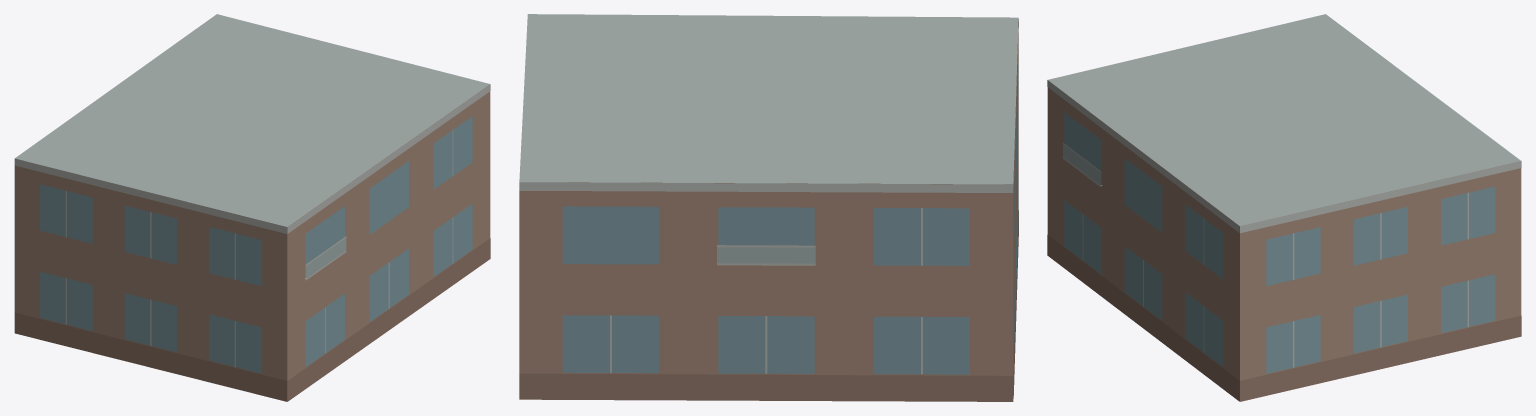
The model's file is survey-upis-33007080.glb.
3 renders of one model, left to right at view 1: azimuth 30°, elevation 25°; view 2: azimuth 150°, elevation 25°; view 3: azimuth 270°, elevation 25°, orthographic. The views are drawn at different scales.
Visible parts, largest first — view 1: survey-upis-33007080.tmp; view 2: survey-upis-33007080.tmp; view 3: survey-upis-33007080.tmp.
Boxes of the visible parts, bbox=[...] form: survey-upis-33007080.tmp: bbox=[14, 14, 490, 401]; survey-upis-33007080.tmp: bbox=[519, 14, 1018, 401]; survey-upis-33007080.tmp: bbox=[1047, 14, 1521, 401].
Bounding box in the file's own units: 15.83 × 6.1 × 14.93.
